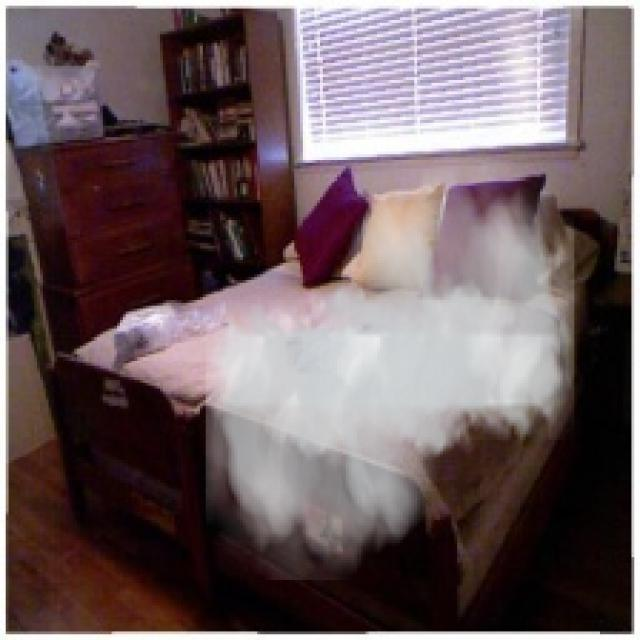Smoke: (206, 160, 574, 580)
